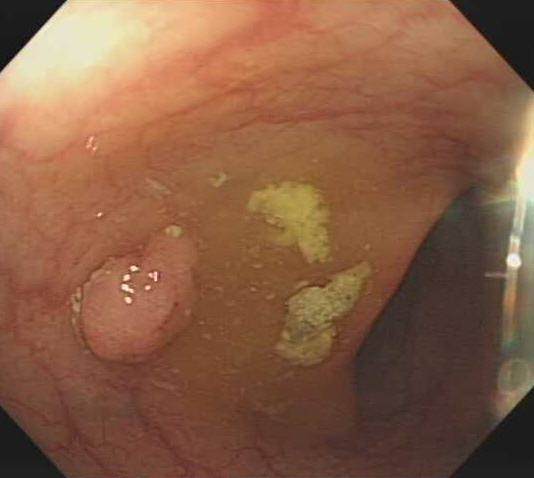adenoma: (75, 230, 203, 366)
